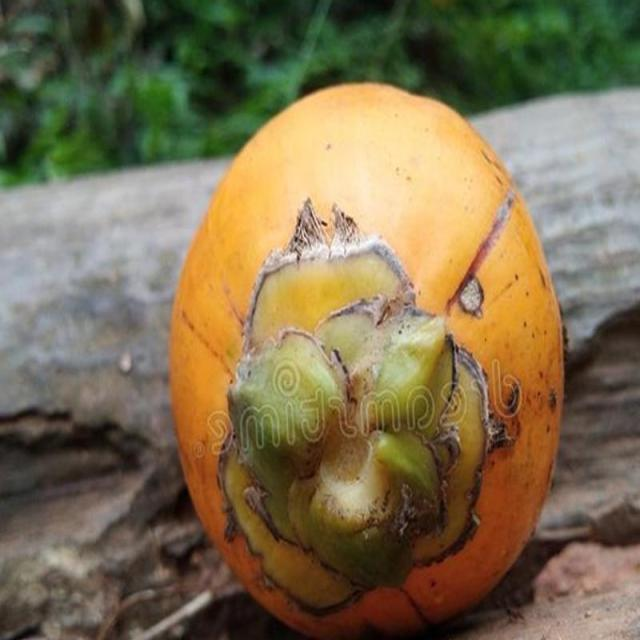good: (169, 82, 565, 639)
